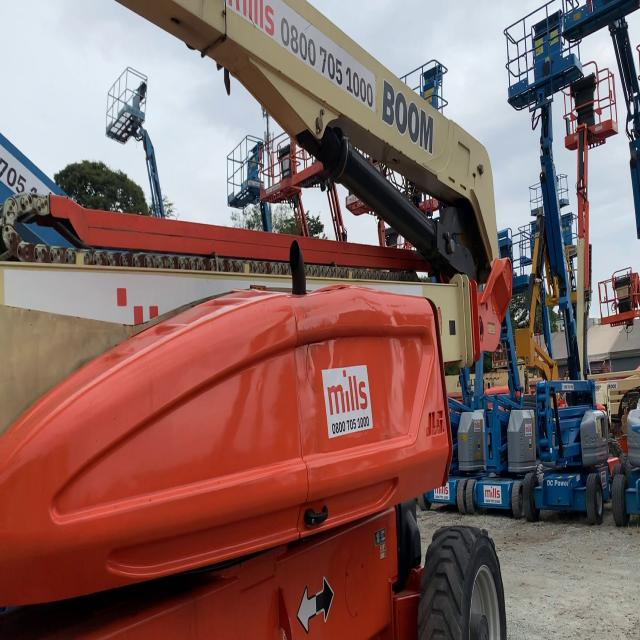Adesivos: (320, 362, 374, 441), (483, 484, 502, 505)
